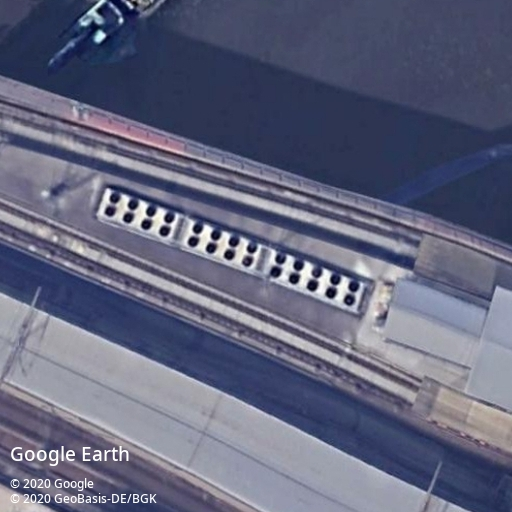Chiller: (267, 249, 366, 314), (96, 187, 181, 243), (181, 218, 263, 272)
